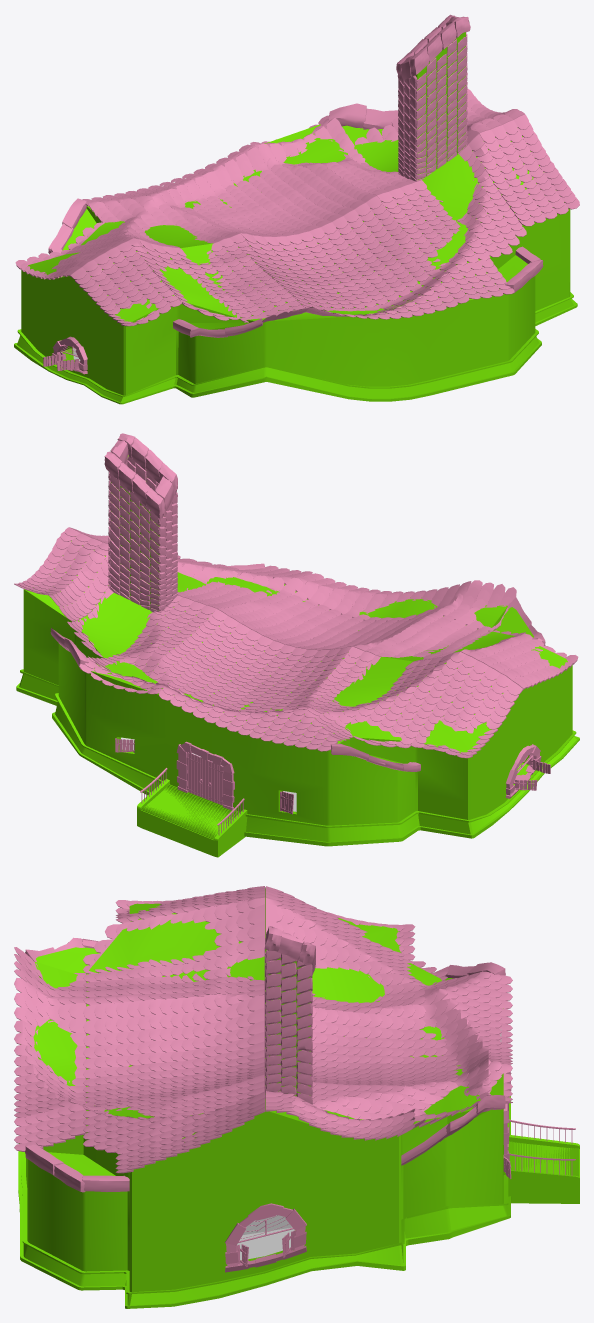
The model's file is House Collapsed2.fbx.
The picture shows the model from 3 angles, top to bottom: view 1: azimuth 30°, elevation 25°; view 2: azimuth 150°, elevation 25°; view 3: azimuth 270°, elevation 25°; orthographic projection. The views are drawn at different scales.
Parts seen in each view (by area): view 1: Roof Tiling, MainBuilding, FirePlaceWall, Edge Cubes, FirePlaceRoof, WindowRockFrame; view 2: MainBuilding, Roof Tiling, FirePlaceWall, FirePlaceRoof, Edge Cubes, Door, DoorRockFrame, WindowRockFrame; view 3: Roof Tiling, MainBuilding, FirePlaceWall, Edge Cubes, WindowRockFrame, InteriorSide, FirePlaceRoof, StepsHandles.
Boxes of the visible parts, x1,y1,x2,y2 form: Roof Tiling: [15, 88, 579, 326]; MainBuilding: [14, 32, 577, 404]; FirePlaceWall: [398, 33, 467, 181]; Edge Cubes: [48, 103, 543, 337]; FirePlaceRoof: [396, 14, 470, 80]; WindowRockFrame: [52, 336, 87, 374]; MainBuilding: [16, 455, 579, 857]; Roof Tiling: [14, 527, 578, 758]; FirePlaceWall: [108, 456, 177, 612]; FirePlaceRoof: [104, 433, 177, 518]; Edge Cubes: [50, 563, 545, 771]; Door: [186, 752, 224, 805]; DoorRockFrame: [176, 741, 234, 810]; WindowRockFrame: [505, 744, 541, 798]; Roof Tiling: [14, 886, 512, 1173]; MainBuilding: [18, 888, 579, 1308]; FirePlaceWall: [264, 947, 312, 1104]; Edge Cubes: [25, 937, 505, 1192]; WindowRockFrame: [225, 1203, 306, 1272]; InteriorSide: [237, 1215, 294, 1260]; FirePlaceRoof: [265, 926, 315, 974]; StepsHandles: [506, 1119, 575, 1175].
Bounding box in the file's own units: 404 × 224 × 309.
